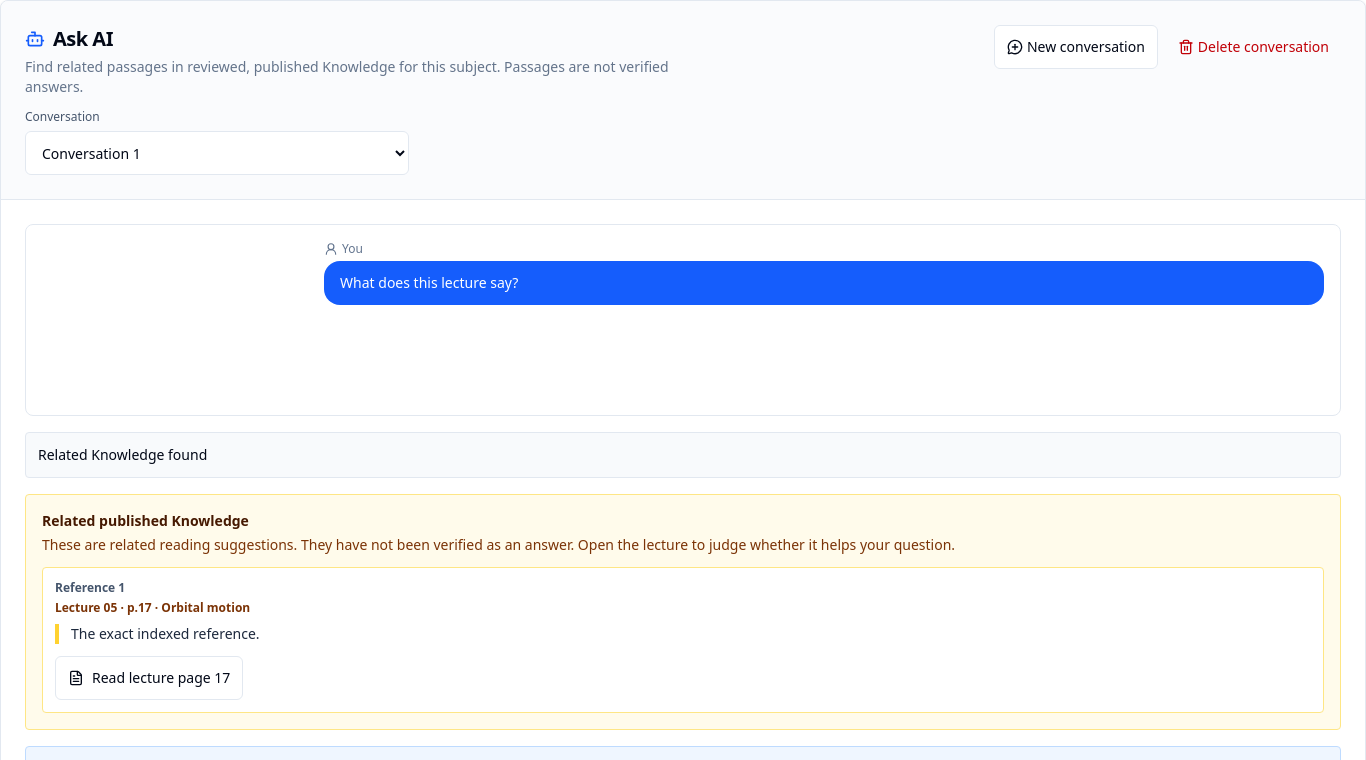
Test: shows a safe page-unavailable state if source access changed before opening
The width and height of the screenshot is (1366, 760).
Click the button "Read lecture page 17".
click(149, 678)  # box x1=55 y1=656 x2=243 y2=700
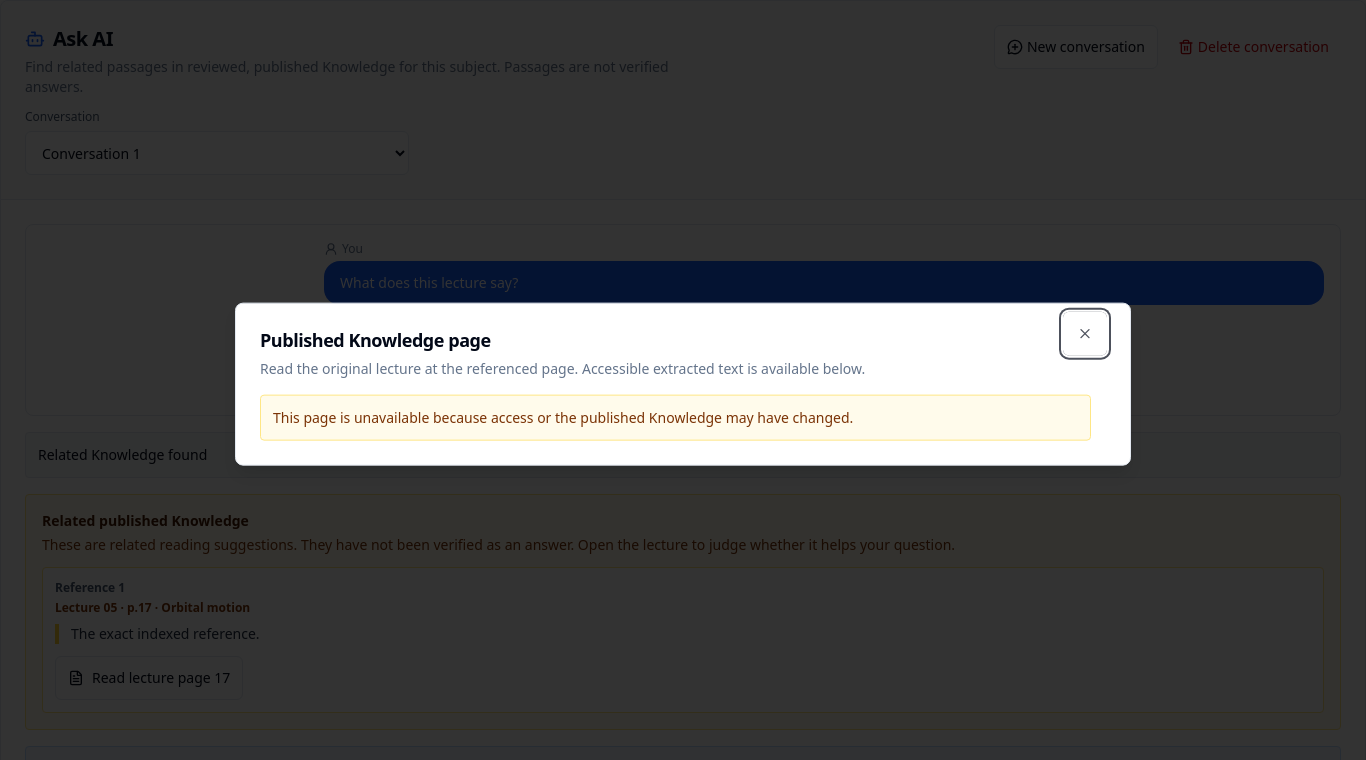
Expected: the dialog "Published Knowledge page" is shown, x1=235 y1=303 x2=1131 y2=465
Expected: the text "This page is unavailable because access or the published Knowledge may have changed." is shown, x1=273 y1=407 x2=853 y2=426
